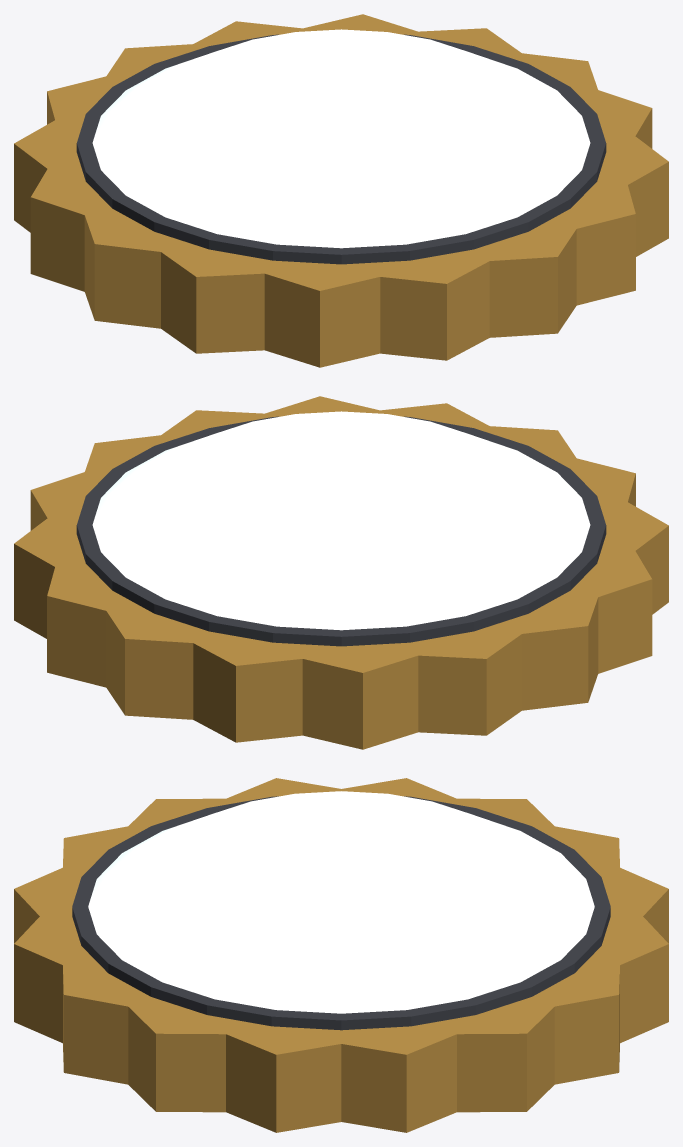
The model's file is lens_small.glb.
3 renders of one model, top to bottom at view 1: azimuth 30°, elevation 25°; view 2: azimuth 150°, elevation 25°; view 3: azimuth 270°, elevation 25°, orthographic.
Parts seen in each view (by area): view 1: Lens_Small_Glow_lens, Lens_Small_Brass, Lens_Small_Darksteel; view 2: Lens_Small_Glow_lens, Lens_Small_Brass, Lens_Small_Darksteel; view 3: Lens_Small_Glow_lens, Lens_Small_Brass, Lens_Small_Darksteel.
Part boxes in pixels (left/top/right/bottom): Lens_Small_Glow_lens: left=92, top=29, right=590, bottom=248; Lens_Small_Brass: left=14, top=14, right=668, bottom=367; Lens_Small_Darksteel: left=76, top=34, right=606, bottom=264; Lens_Small_Glow_lens: left=92, top=411, right=590, bottom=630; Lens_Small_Brass: left=14, top=396, right=668, bottom=749; Lens_Small_Darksteel: left=76, top=416, right=606, bottom=646; Lens_Small_Glow_lens: left=88, top=791, right=594, bottom=1013; Lens_Small_Brass: left=14, top=778, right=668, bottom=1132; Lens_Small_Darksteel: left=72, top=796, right=610, bottom=1030.
Size of the model in its own units: 0.0304 by 0.0072 by 0.0304.
